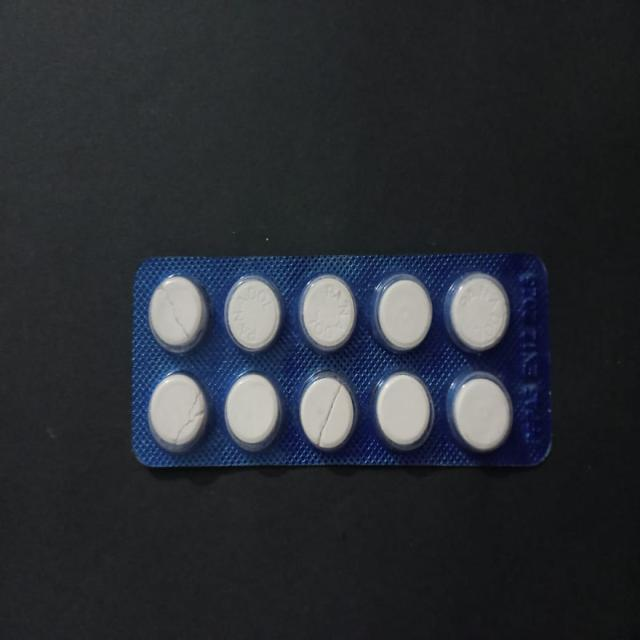defect: (145, 367, 210, 454), (146, 274, 211, 355), (298, 371, 358, 454)
